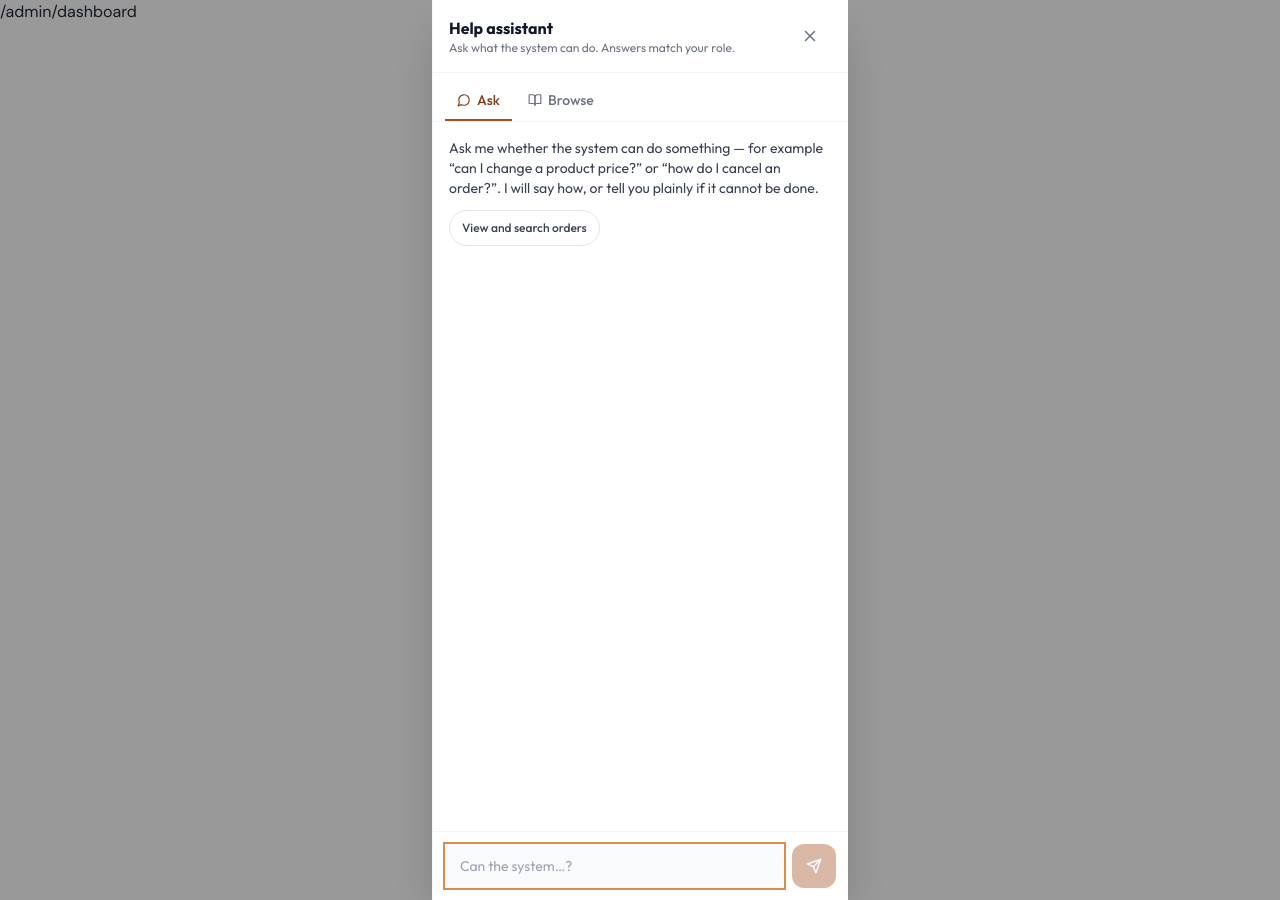
Test: AssistantPanel › says plainly when the system cannot do it, and what to do instead
Type "delete an order" into the field named "Your question" at coordinates (614, 866), box [445,844,784,888]
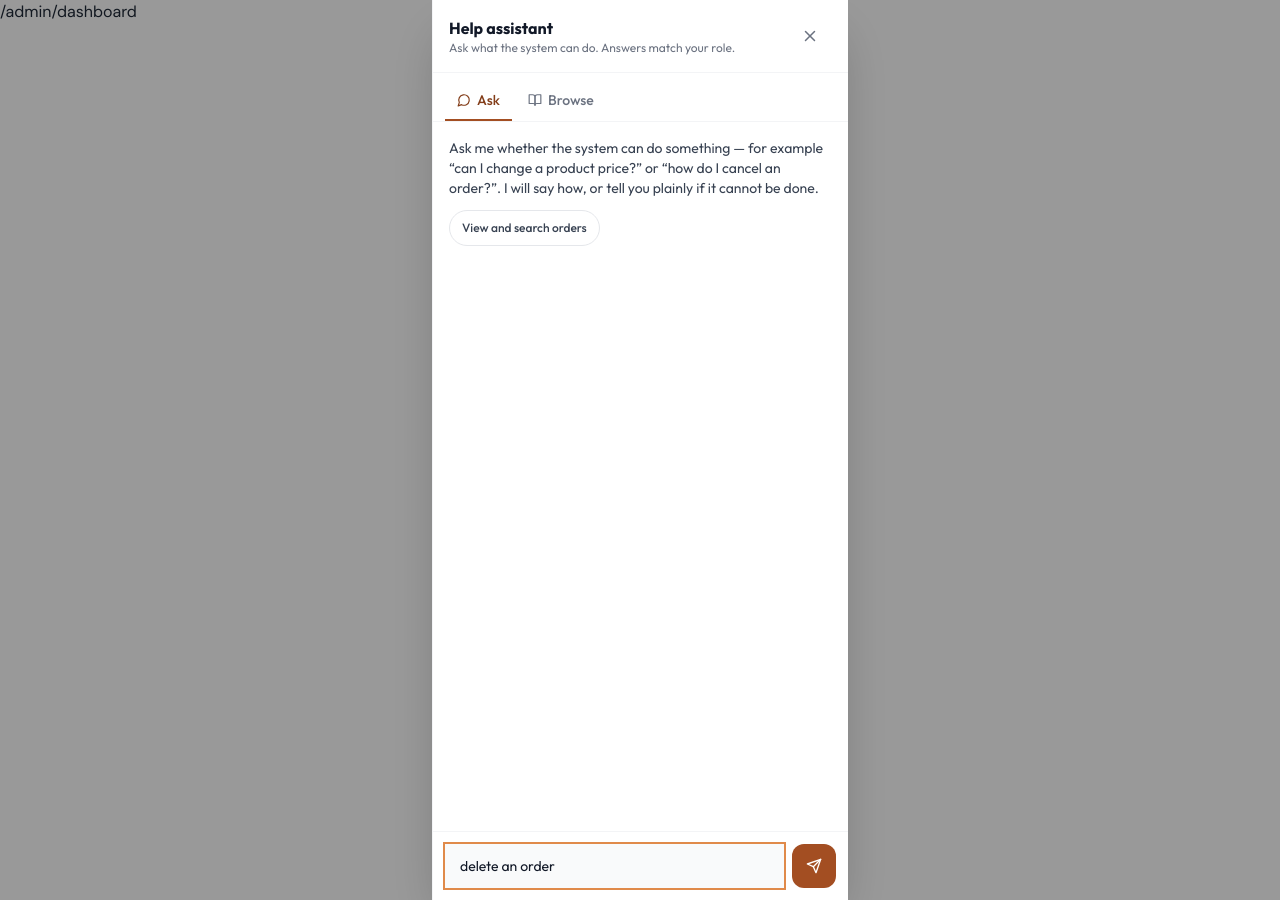
Click the button named "Send question" at coordinates (814, 866), box [792,844,836,888]
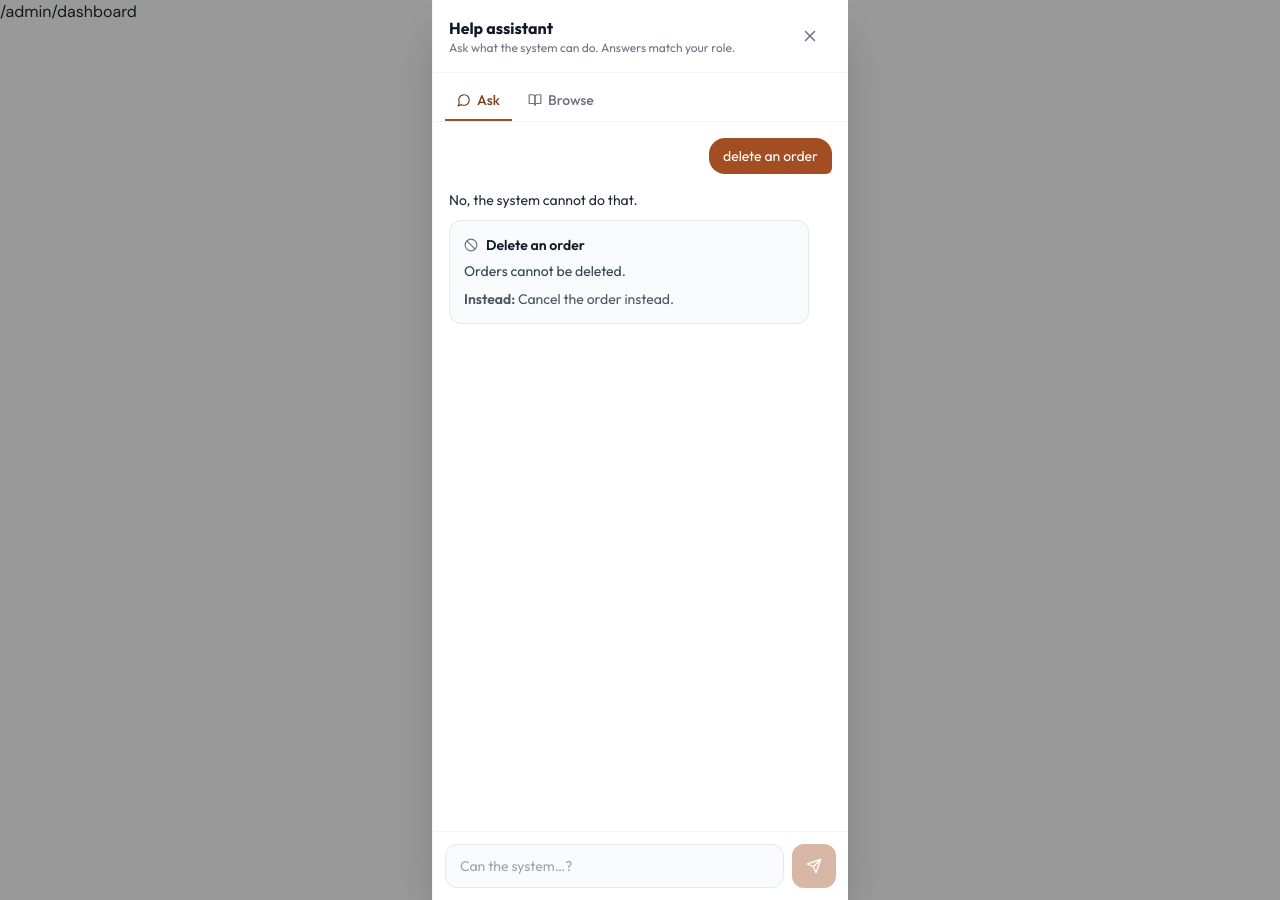
expect the text "No, the system cannot do that." is shown: met, box [449,191,638,209]
expect the text "Orders cannot be deleted." is shown: met, box [464,262,626,280]
expect the text "Instead: Cancel the order instead." is shown: met, box [464,290,674,308]
